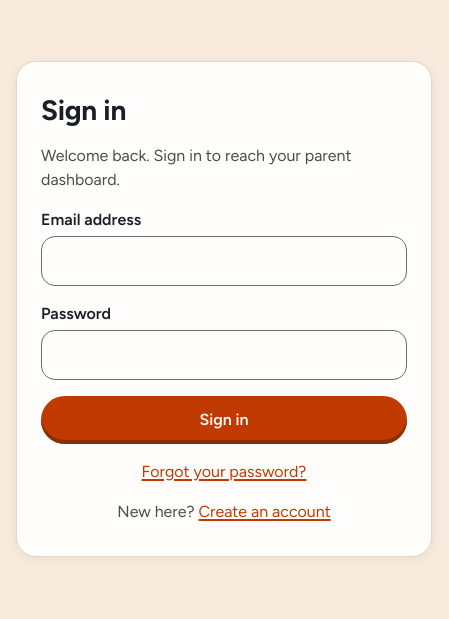
Scenario: SignInForm › shows a friendly message when credentials are rejected
The image size is (449, 619).
Type "ada@example.com" into the field labelled "Email address" at x=224, y=261, box [41, 236, 407, 286]
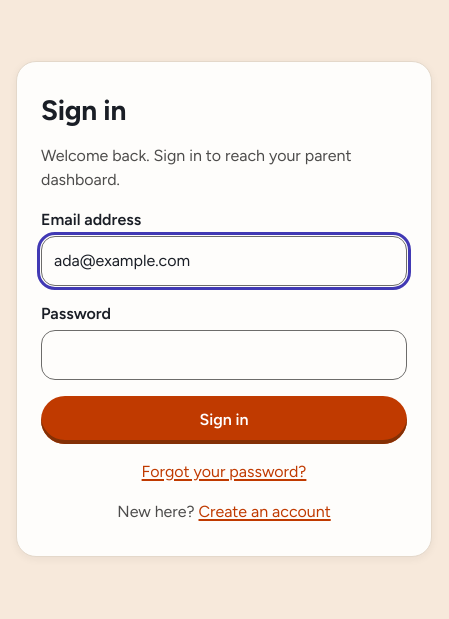
Type "supersecret" into the password field labelled "Password" at x=224, y=355, box [41, 330, 407, 380]
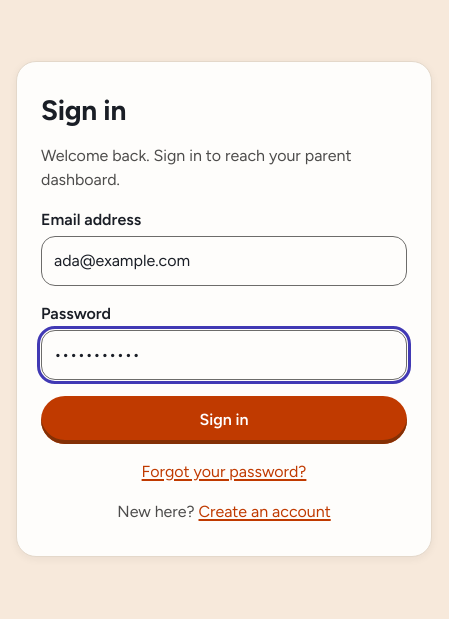
Click the button "Sign in" at x=224, y=420, box [41, 396, 407, 444]
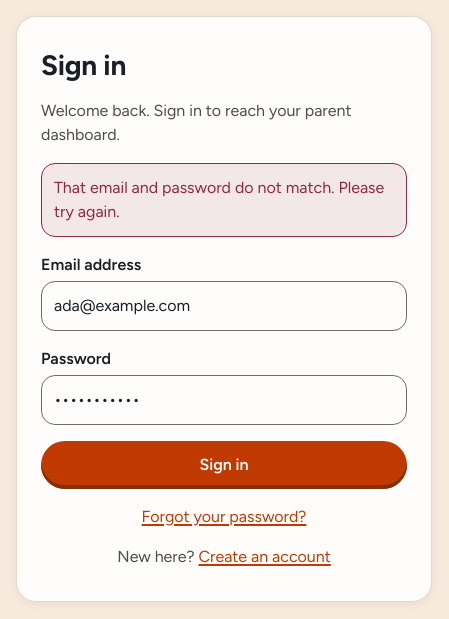
Expected: the message shows "do not match", [54, 178, 384, 221]
